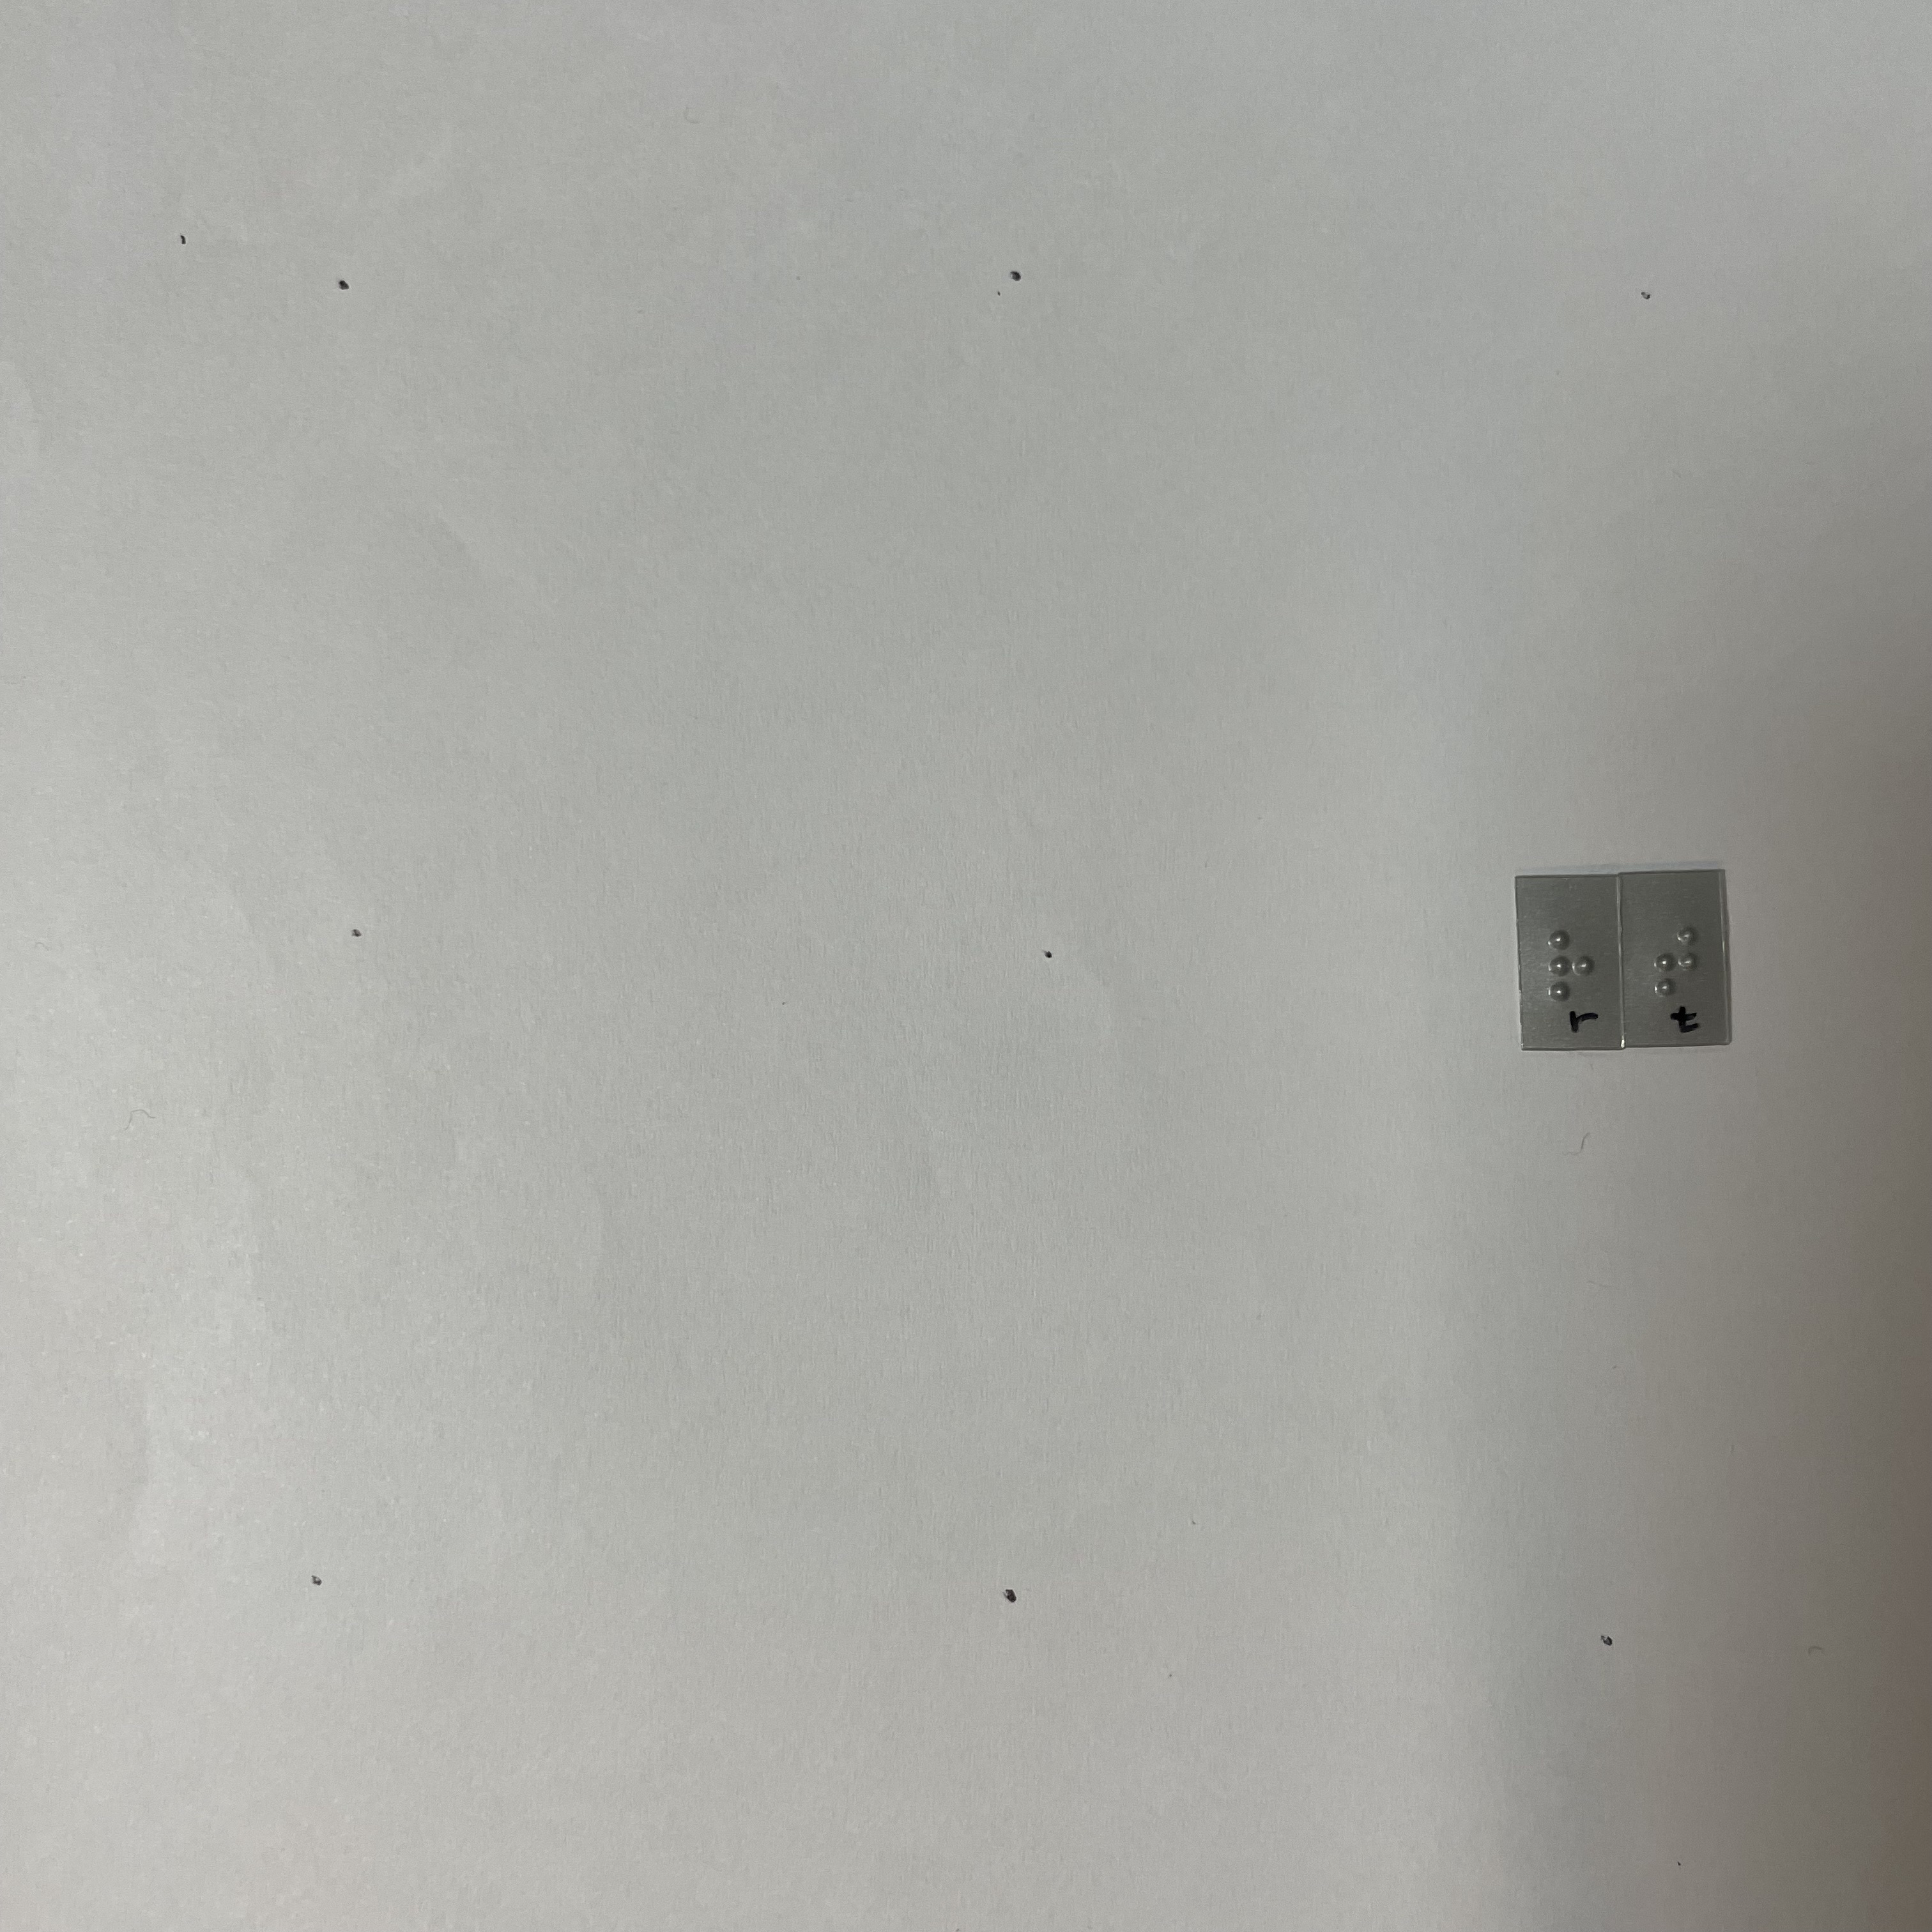r: (1547, 923, 1598, 1007)
t: (1648, 921, 1703, 1007)
